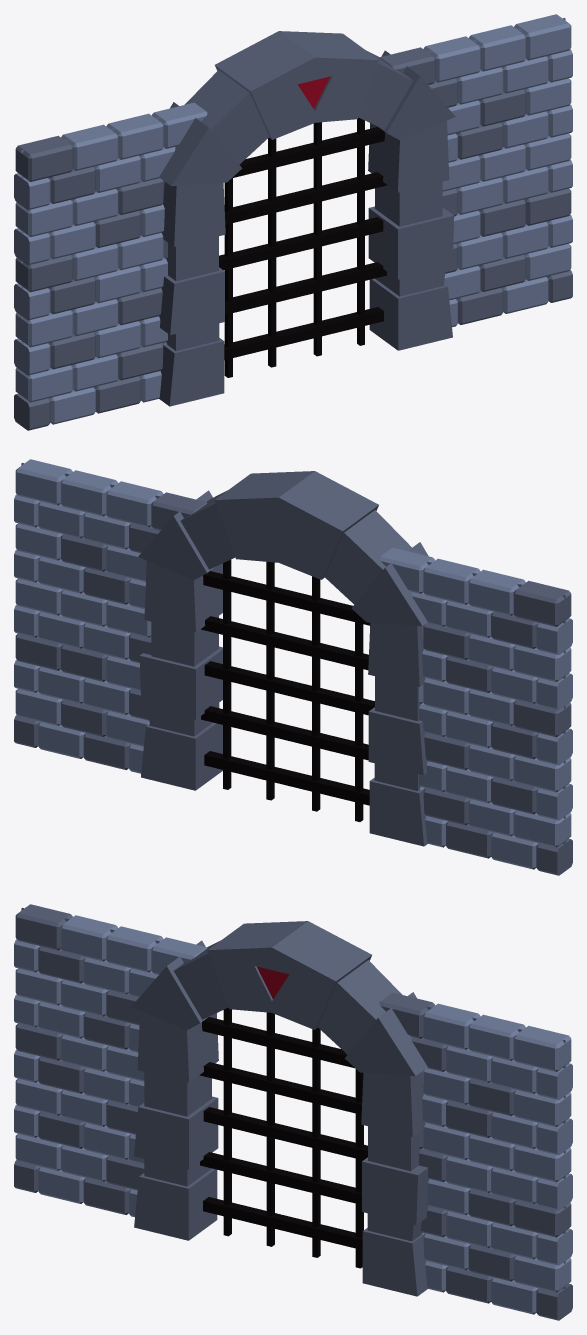
The model's file is brick wall with bars.fbx.
3 renders of one model, top to bottom at view 1: azimuth 30°, elevation 25°; view 2: azimuth 150°, elevation 25°; view 3: azimuth 330°, elevation 25°, orthographic.
Visible parts, largest first — view 1: brick wall with bars, bars.003; view 2: brick wall with bars, bars.003; view 3: brick wall with bars, bars.003.
Boxes of the visible parts, left/top/right/bottom form: brick wall with bars: left=14, top=14, right=572, bottom=430; bars.003: left=219, top=117, right=386, bottom=377; brick wall with bars: left=14, top=459, right=572, bottom=875; bars.003: left=201, top=559, right=374, bottom=821; brick wall with bars: left=14, top=904, right=572, bottom=1320; bars.003: left=200, top=1007, right=367, bottom=1268.
Size of the model in its own units: 600 by 336 by 69.43.
